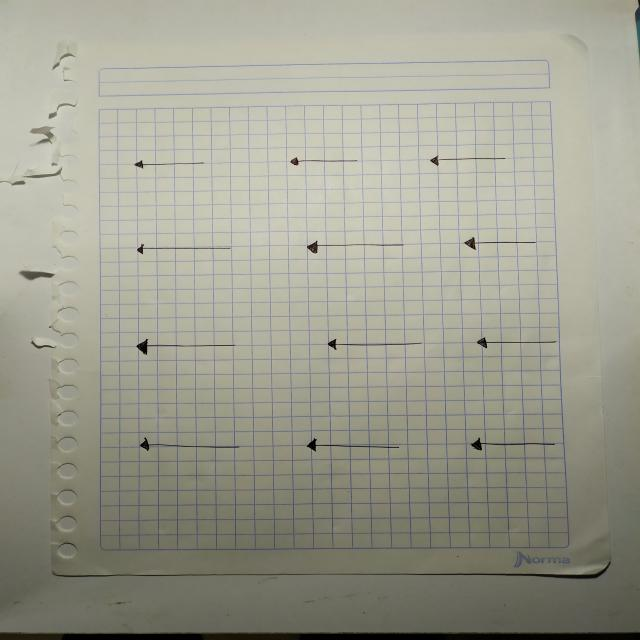arrow_line_left: (293, 430, 419, 464), (449, 430, 566, 464), (129, 432, 256, 460), (123, 238, 262, 260), (291, 236, 416, 259), (462, 332, 568, 358), (127, 336, 246, 358), (312, 337, 438, 356), (452, 232, 550, 255), (419, 151, 523, 172), (125, 153, 218, 175), (277, 153, 368, 171)
